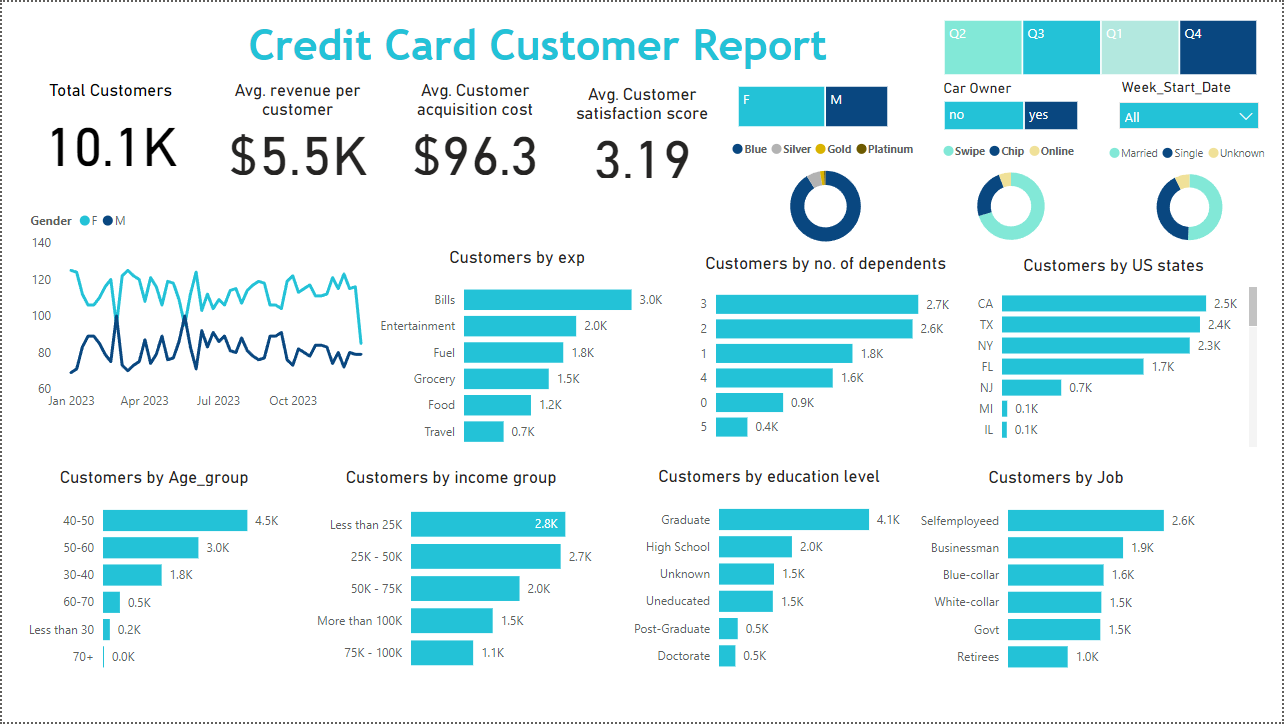

This screenshot's page, from the dashboard's own definition file:
{"tool":"powerbi","page":{"name":"CC customer Report","canvas":[1280,720],"ordinal":2},"visuals":[{"type":"textbox","box":[241.8,13.4,640.3,64.5],"z":0},{"type":"barChart","title":"Customers by income group","fields":{"Y":["Count(customer.Client_Num)"],"Category":["customer.Income_Group"]},"box":[302.7,464.8,293.7,217.6],"z":1000},{"type":"card","title":"Total Customers","fields":{"Values":["Count(customer.Client_Num)"]},"box":[24.2,77.9,170.1,100.3],"z":2000},{"type":"card","title":"Avg. revenue per customer","fields":{"Values":["Avg(credit_card_LS.Revenue)"]},"box":[216.4,77.6,159.6,100.6],"z":3000},{"type":"card","title":"Avg. Customer acquisition cost","fields":{"Values":["Avg(credit_card_LS.Customer_Acq_Cost)"]},"box":[388,77.6,170.5,100.6],"z":4000},{"type":"card","title":"Avg. Customer satisfaction score","fields":{"Values":["Avg(customer.Cust_Satisfaction_Score)"]},"box":[560.8,82,159.6,99.5],"z":5000},{"type":"slicer","fields":{"Values":["credit_card_LS.Week_Start_Date"]},"box":[1106.9,71.6,160.3,65.4],"z":6000},{"type":"treemap","fields":{"Group":["credit_card_LS.Qtr"],"Values":["Count(credit_card_LS.Client_Num)"]},"box":[936.7,13.4,323.3,64.5],"z":7000},{"type":"treemap","fields":{"Group":["customer.Gender"],"Values":["Count(credit_card_LS.Client_Num)"]},"box":[730.7,78.8,160.3,51],"z":8000},{"type":"donutChart","fields":{"Category":["credit_card_LS.Card_Category"],"Y":["Count(credit_card_LS.Client_Num)"]},"box":[724.5,128.1,198.8,124.5],"z":9000},{"type":"barChart","title":"Customers by Age_group","fields":{"Category":["customer.Age_Group"],"Y":["Count(customer.Client_Num)"]},"box":[16.1,464.8,273.1,217.6],"z":10000},{"type":"barChart","title":"Customers by education level","fields":{"Y":["Count(customer.Client_Num)"],"Category":["customer.Education_Level"]},"box":[620.6,463.9,293.7,217.6],"z":11000},{"type":"barChart","title":"Customers by Job","fields":{"Y":["Count(customer.Client_Num)"],"Category":["customer.Customer_Job"]},"box":[907.2,464.8,294.6,217.6],"z":12000},{"type":"donutChart","title":"Marital Status","fields":{"Category":["customer.Marital_Status"],"Y":["Count(credit_card_LS.Client_Num)"]},"box":[1095.2,131.6,184.5,119.1],"z":13000},{"type":"barChart","title":"Customers by no. of dependents","fields":{"Y":["Count(customer.Client_Num)"],"Category":["customer.Dependent_Count"]},"box":[692.2,250.7,263.3,198.8],"z":14000},{"type":"lineChart","title":"Customers over time","fields":{"Series":["customer.Gender"],"Category":["credit_card_LS.Week_Start_Date.Variation.Date Hierarchy.Year","credit_card_LS.Week_Start_Date.Variation.Date Hierarchy.Month","credit_card_LS.Week_Start_Date.Variation.Date Hierarchy.Day"],"Y":["Count(customer.Client_Num)"]},"box":[24.2,198.8,363.6,218.5],"z":15000},{"type":"treemap","title":"Car Owner","fields":{"Values":["Count(credit_card_LS.Client_Num)"],"Group":["customer.Car_Owner"]},"box":[936.7,77.9,144.2,54.6],"z":16000},{"type":"donutChart","title":"Usage","fields":{"Category":["credit_card_LS.Use Chip"],"Y":["Count(credit_card_LS.Client_Num)"]},"box":[923.3,129.9,171.9,120.9],"z":17000},{"type":"barChart","title":"Customers by exp","fields":{"Y":["Count(customer.Client_Num)"],"Category":["credit_card_LS.Exp Type"]},"box":[365.4,245.4,300.9,210.4],"z":18000},{"type":"barChart","title":"Customers by US states","fields":{"Y":["Count(customer.Client_Num)"],"Category":["customer.state_cd"]},"box":[964.5,252.5,295.5,197],"z":19000}]}

Visuals, with their boxes in screenshot pixels (x1, y1, x2, y2), scaled from the page's 1280x720 canvas onto the 1284x725 screenshot:
textbox: 243:13:885:78
"Customers by income group" barChart: 304:468:598:687
"Total Customers" card: 24:78:195:179
"Avg. revenue per customer" card: 217:78:377:179
"Avg. Customer acquisition cost" card: 389:78:560:179
"Avg. Customer satisfaction score" card: 563:83:723:183
slicer - credit_card_LS.Week_Start_Date: 1110:72:1271:138
treemap - credit_card_LS.Qtr x Count(credit_card_LS.Client_Num): 940:13:1264:78
treemap - customer.Gender x Count(credit_card_LS.Client_Num): 733:79:894:131
donutChart - credit_card_LS.Card_Category x Count(credit_card_LS.Client_Num): 727:129:926:254
"Customers by Age_group" barChart: 16:468:290:687
"Customers by education level" barChart: 623:467:917:686
"Customers by Job" barChart: 910:468:1206:687
"Marital Status" donutChart: 1099:133:1283:252
"Customers by no. of dependents" barChart: 694:252:958:453
"Customers over time" lineChart: 24:200:389:420
"Car Owner" treemap: 940:78:1084:133
"Usage" donutChart: 926:131:1099:253
"Customers by exp" barChart: 367:247:668:459
"Customers by US states" barChart: 968:254:1264:453
